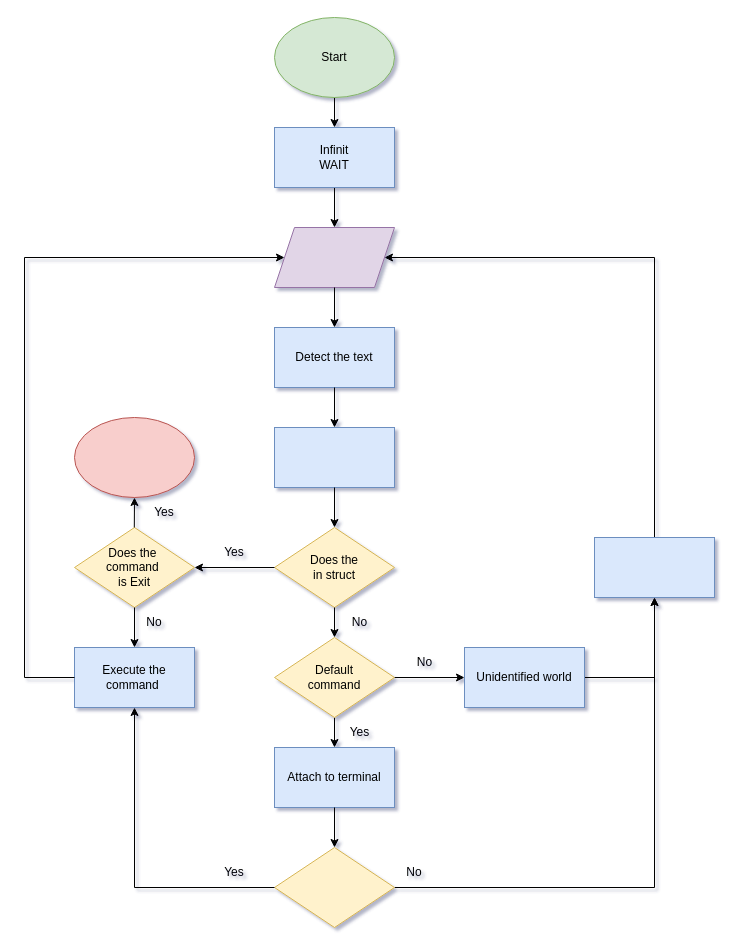
Some shapes in this 738 by 951 pixel diagram are drawn without their labels. The shapes that lost their labels are listed below. From the top down, each one's centre as x and y in pixels, then its label:
At (334,257): "Input Command".
At (134,457): "Stop".
At (334,457): "Search the command".
At (654,567): "ERROR".
At (334,887): "Succes".
